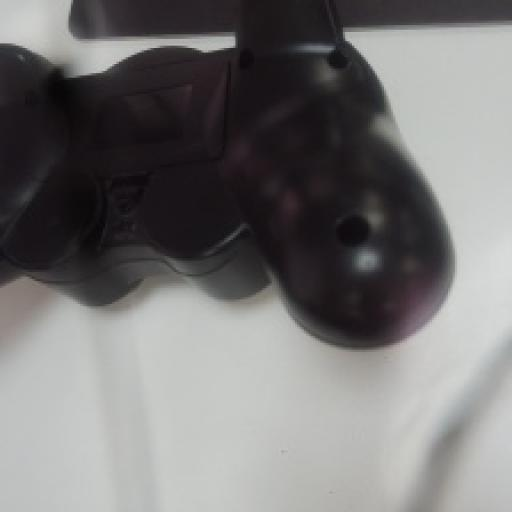game pad: (2, 0, 453, 345)
